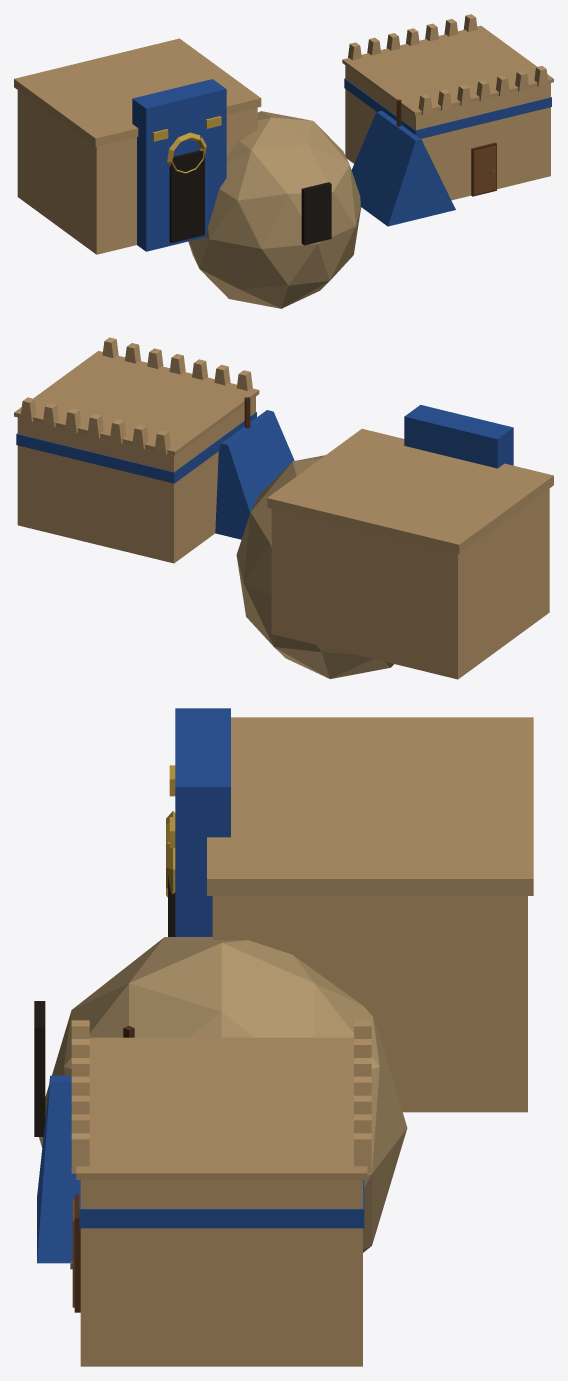
The model's file is minotaur_compound_broken.glb.
3 views of the same model, one above another, from view 1: azimuth 30°, elevation 25°; view 2: azimuth 150°, elevation 25°; view 3: azimuth 270°, elevation 25° (orthographic). The views are drawn at different scales.
Visible parts, largest first — view 1: minotaur_compound_piece7, minotaur_compound_piece10, minotaur_compound_piece0, minotaur_compound_piece2, minotaur_compound_piece3, minotaur_compound_piece6, minotaur_compound_piece4, minotaur_compound_piece1, minotaur_compound_piece5, minotaur_compound_piece9; view 2: minotaur_compound_piece0, minotaur_compound_piece7, minotaur_compound_piece10, minotaur_compound_piece5, minotaur_compound_piece1, minotaur_compound_piece4, minotaur_compound_piece6, minotaur_compound_piece9, minotaur_compound_piece2, minotaur_compound_piece8, minotaur_compound_piece3; view 3: minotaur_compound_piece7, minotaur_compound_piece1, minotaur_compound_piece0, minotaur_compound_piece8, minotaur_compound_piece10, minotaur_compound_piece6, minotaur_compound_piece4, minotaur_compound_piece3, minotaur_compound_piece2.
Boxes of the visible parts, x1,y1,x2,y2 form: minotaur_compound_piece7: [349, 14, 553, 193]; minotaur_compound_piece10: [52, 65, 199, 254]; minotaur_compound_piece0: [14, 38, 196, 221]; minotaur_compound_piece2: [260, 129, 427, 308]; minotaur_compound_piece3: [196, 78, 312, 303]; minotaur_compound_piece6: [154, 79, 242, 285]; minotaur_compound_piece4: [337, 85, 486, 216]; minotaur_compound_piece1: [200, 62, 322, 304]; minotaur_compound_piece5: [341, 51, 395, 173]; minotaur_compound_piece9: [188, 219, 236, 300]; minotaur_compound_piece0: [267, 475, 530, 679]; minotaur_compound_piece7: [14, 337, 234, 553]; minotaur_compound_piece10: [322, 425, 553, 649]; minotaur_compound_piece5: [134, 420, 266, 636]; minotaur_compound_piece1: [242, 428, 372, 665]; minotaur_compound_piece4: [185, 359, 266, 507]; minotaur_compound_piece6: [380, 405, 503, 463]; minotaur_compound_piece9: [276, 645, 393, 678]; minotaur_compound_piece2: [263, 410, 310, 669]; minotaur_compound_piece8: [268, 466, 349, 650]; minotaur_compound_piece3: [350, 431, 404, 466]; minotaur_compound_piece7: [70, 1020, 371, 1366]; minotaur_compound_piece1: [34, 854, 406, 1250]; minotaur_compound_piece0: [287, 717, 533, 1030]; minotaur_compound_piece8: [351, 854, 527, 1252]; minotaur_compound_piece10: [169, 708, 405, 864]; minotaur_compound_piece6: [166, 716, 314, 936]; minotaur_compound_piece4: [37, 1020, 161, 1263]; minotaur_compound_piece3: [34, 837, 349, 1072]; minotaur_compound_piece2: [34, 1016, 217, 1234].
Size of the model in its own units: 2.91 by 1.54 by 1.48.
